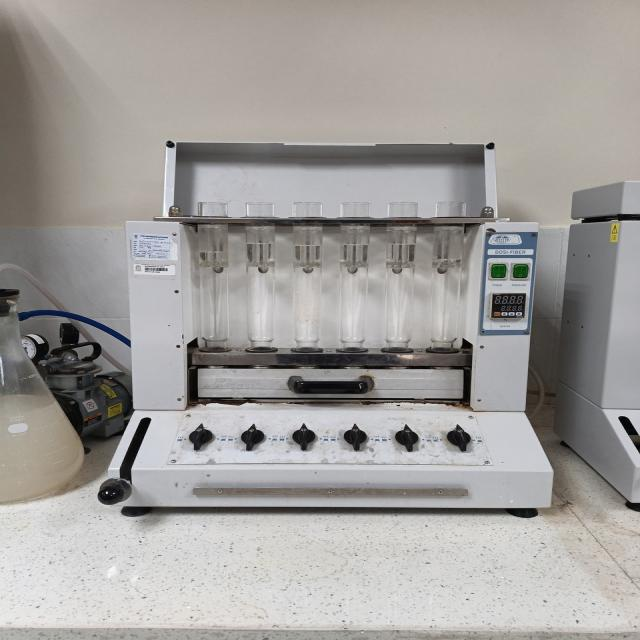Analizador de Fibra Cruda y Fracciones: (98, 141, 552, 517)
